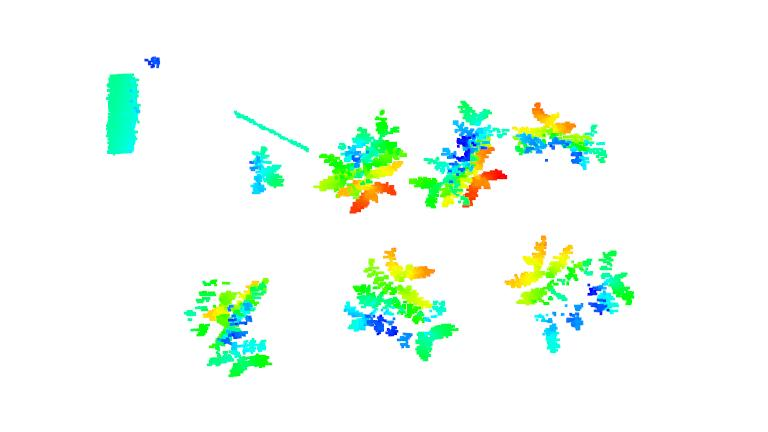chickpea: (507, 236, 637, 355), (339, 245, 459, 364), (404, 102, 511, 210), (313, 103, 404, 214), (188, 271, 281, 377), (512, 99, 610, 172), (246, 140, 285, 195)
